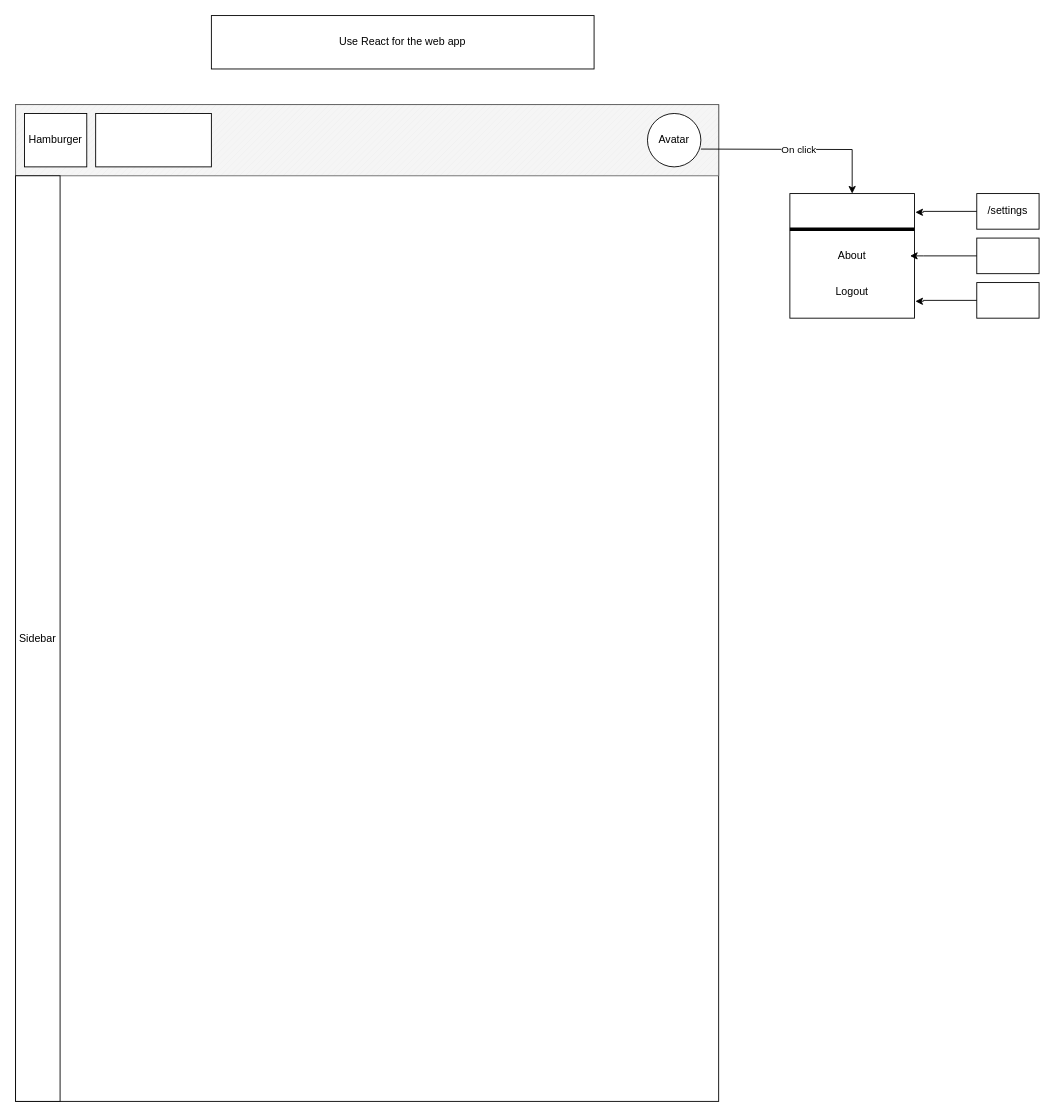
This 1055x1117 diagram has some shape labels left out. Here are the shapes that lost their labels. From the top down, the centre of each, then its label:
point (153, 140): Recipya - [app section]
point (852, 215): Settings
point (1007, 255): opens about modal
point (1007, 300): /auth/logout
